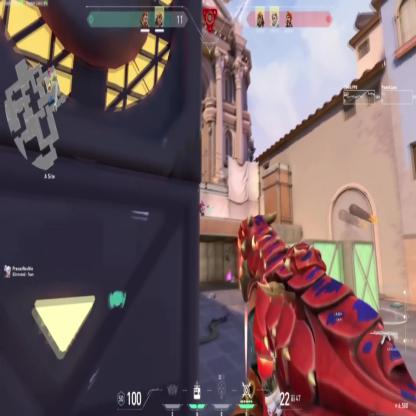enemy: (198, 201, 205, 221)
enemy_head: (201, 201, 204, 206)
